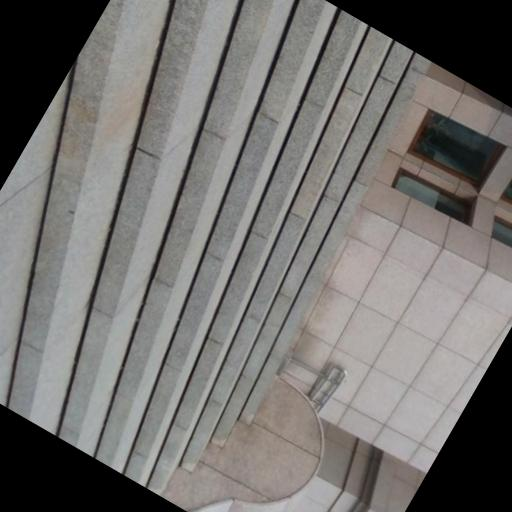stairs: (9, 0, 428, 494)
